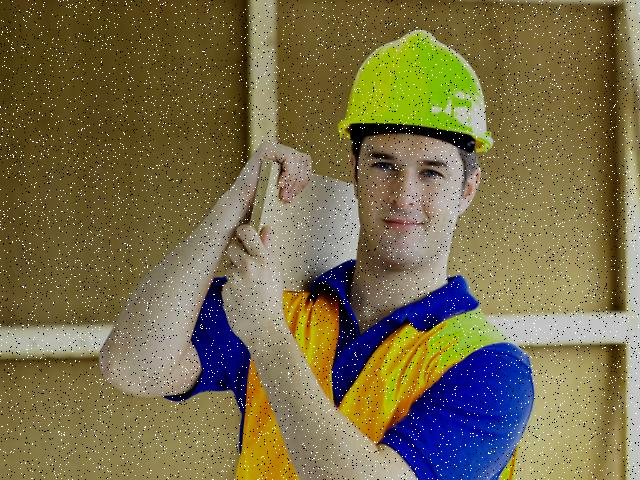Helmet: (332, 23, 497, 164)
